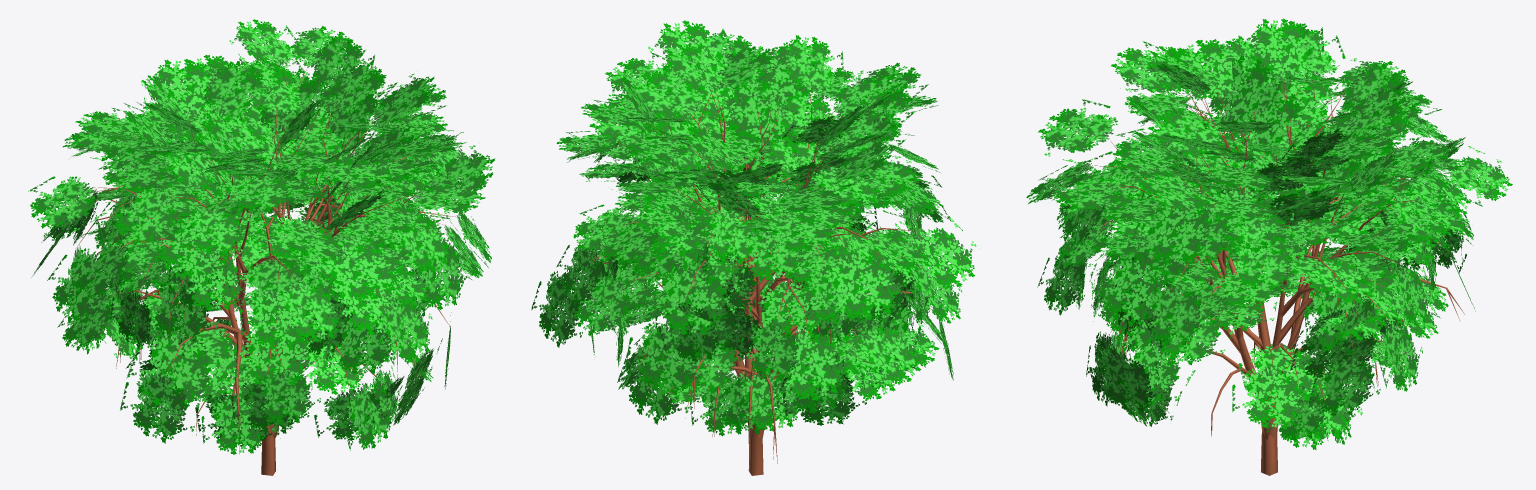
File: Tree.fbx
The picture shows the model from 3 angles, left to right: view 1: azimuth 30°, elevation 25°; view 2: azimuth 150°, elevation 25°; view 3: azimuth 270°, elevation 25°; orthographic projection.
Visible parts, largest first — view 1: GreenLeaves_LOD0, GreenTree_LOD0; view 2: GreenLeaves_LOD0, GreenTree_LOD0; view 3: GreenLeaves_LOD0, GreenTree_LOD0.
Part boxes in pixels (left/top/right/bottom): GreenLeaves_LOD0: left=28, top=19, right=495, bottom=454; GreenTree_LOD0: left=76, top=68, right=455, bottom=475; GreenLeaves_LOD0: left=531, top=20, right=976, bottom=436; GreenTree_LOD0: left=577, top=88, right=931, bottom=475; GreenLeaves_LOD0: left=1026, top=18, right=1512, bottom=449; GreenTree_LOD0: left=1095, top=78, right=1464, bottom=475.
Size of what is drawn, in the model's own units: 832 by 819 by 895.
